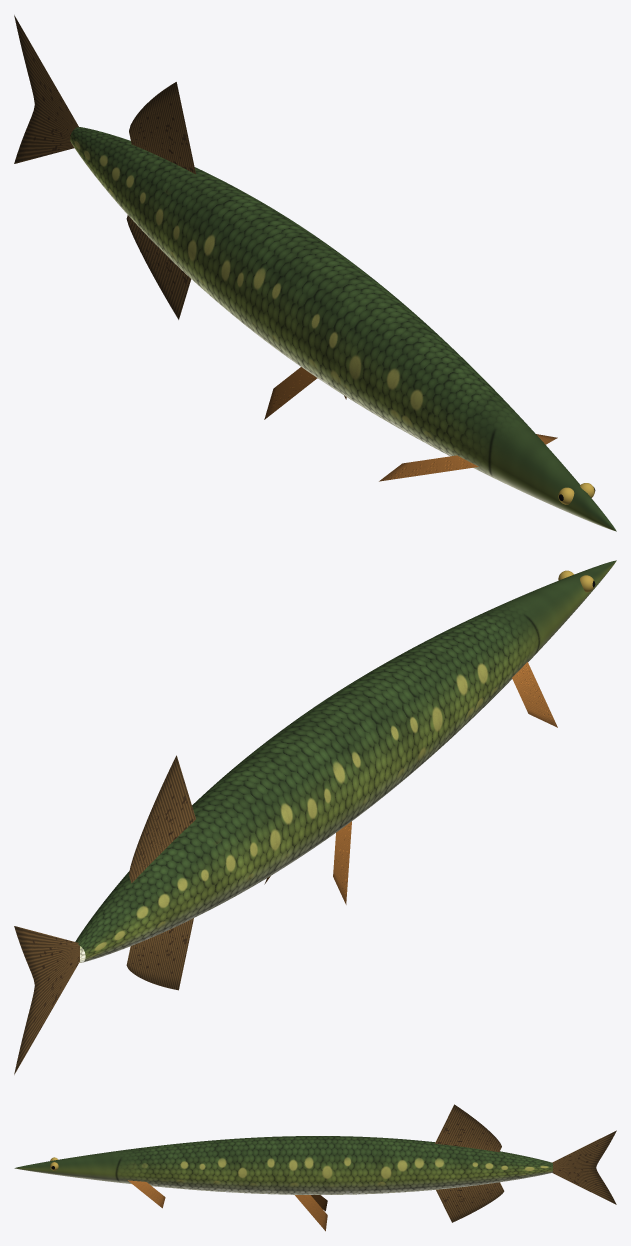
Rendered from schuka.obj.
3 views of the same model, one above another, from view 1: azimuth 30°, elevation 25°; view 2: azimuth 150°, elevation 25°; view 3: azimuth 270°, elevation 25° (orthographic). The views are drawn at different scales.
Parts seen in each view (by area): view 1: body, fin_tail, fin_dorsal0, fin_anal0, fin_pect_R, fin_pelv_R; view 2: body, fin_tail, fin_dorsal0, fin_anal0, fin_pect_R, fin_pelv_R; view 3: body, fin_tail, fin_dorsal0, fin_anal0, fin_pelv_L, fin_pect_L.
Part boxes in pixels (<box>): body: <box>70,127,616,531</box>; fin_tail: <box>14,15,78,163</box>; fin_dorsal0: <box>129,82,195,174</box>; fin_anal0: <box>126,215,191,319</box>; fin_pect_R: <box>379,455,478,481</box>; fin_pelv_R: <box>264,367,317,419</box>; body: <box>75,560,616,962</box>; fin_tail: <box>14,926,79,1074</box>; fin_dorsal0: <box>129,755,195,882</box>; fin_anal0: <box>126,918,193,990</box>; fin_pect_R: <box>512,662,557,727</box>; fin_pelv_R: <box>333,821,351,904</box>; body: <box>14,1136,552,1194</box>; fin_tail: <box>552,1130,616,1204</box>; fin_dorsal0: <box>435,1104,501,1151</box>; fin_anal0: <box>436,1182,504,1222</box>; fin_pelv_L: <box>295,1195,327,1231</box>; fin_pect_L: <box>128,1180,165,1208</box>.
Size of the model in its own units: 0.1462 by 0.1844 by 0.85.
5 materials, 3 textured.
